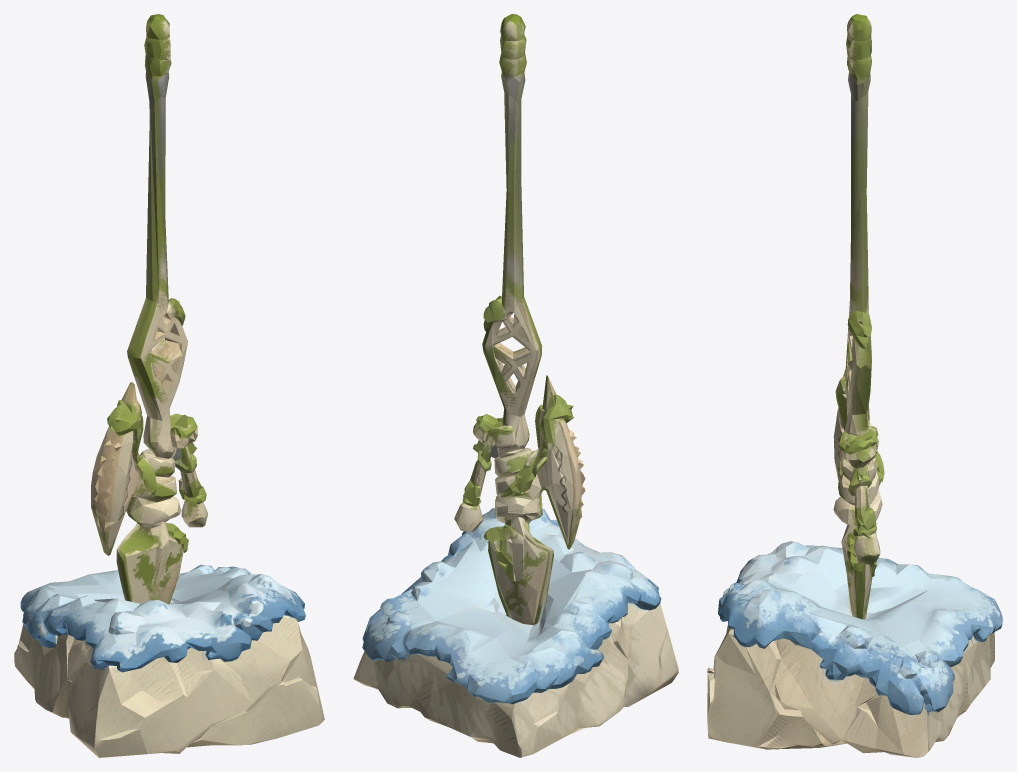
Rendered from lanza.glb.
3 renders of one model, left to right at view 1: azimuth 30°, elevation 25°; view 2: azimuth 150°, elevation 25°; view 3: azimuth 270°, elevation 25°, orthographic.
Visible parts, largest first — view 1: output_unwrapped; view 2: output_unwrapped; view 3: output_unwrapped.
Part boxes in pixels (bbox=[...]): output_unwrapped: bbox=[14, 14, 324, 757]; output_unwrapped: bbox=[353, 14, 678, 757]; output_unwrapped: bbox=[707, 14, 1002, 757].
Bounding box in the file's own units: 0.7128 × 1.9 × 0.7436.
Materials: 1 (1 with a texture image).
